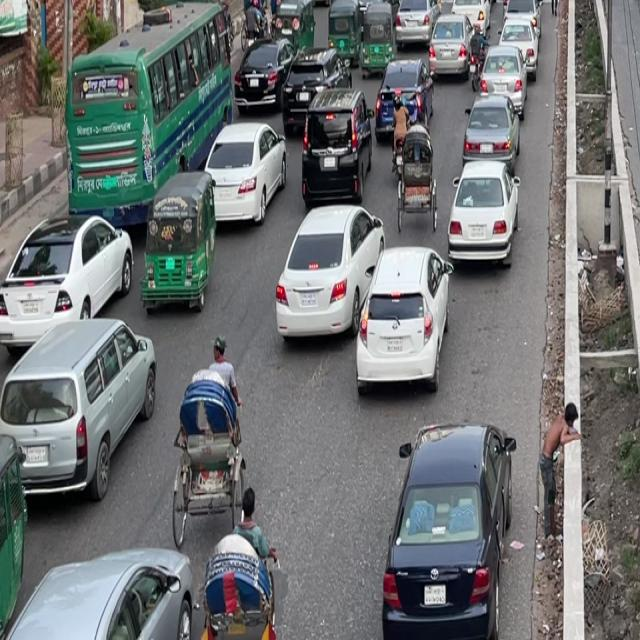bus: (64, 1, 238, 229)
car: (1, 319, 160, 505), (386, 422, 501, 630), (3, 551, 202, 640), (2, 212, 136, 342), (272, 207, 386, 343), (358, 246, 456, 396), (142, 173, 217, 314), (285, 80, 369, 205), (203, 120, 290, 229), (446, 162, 522, 272), (202, 538, 282, 638), (297, 128, 363, 204), (279, 48, 344, 114), (238, 38, 294, 108), (424, 17, 479, 83), (461, 99, 518, 161), (380, 58, 431, 120), (480, 45, 526, 100), (394, 0, 442, 40), (357, 0, 398, 35), (451, 0, 486, 18), (505, 0, 541, 15)
